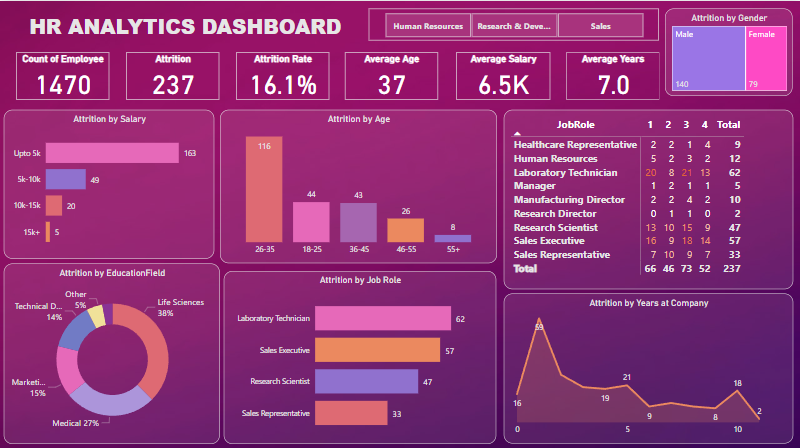

The dashboard page shown, as its layout file describes it:
{"tool":"powerbi","page":{"name":"Page 1","canvas":[1280,720],"ordinal":0},"visuals":[{"type":"card","title":"Count of Employee","fields":{"Values":["CountNonNull(HR_Analytics.EmpID)"]},"box":[25.7,81.4,148.6,75.7],"z":0},{"type":"card","title":"Attrition","fields":{"Values":["Sum(HR_Analytics.AttritionCount)"]},"box":[202.9,81.4,148.6,75.7],"z":1000},{"type":"card","title":"Attrition Rate","fields":{"Values":["HR_Analytics.AttritionRate"]},"box":[377.1,81.4,148.6,75.7],"z":2000},{"type":"card","title":"Average Age","fields":{"Values":["Avg(HR_Analytics.Age)"]},"box":[552.9,81.4,148.6,75.7],"z":3000},{"type":"card","title":"Average Salary","fields":{"Values":["Avg(HR_Analytics.MonthlyIncome)"]},"box":[730,81.4,150,75.7],"z":4000},{"type":"card","title":"Average Years","fields":{"Values":["Avg(HR_Analytics.YearsAtCompany)"]},"box":[905.7,81.4,148.6,75.7],"z":5000},{"type":"donutChart","title":"Attrition by EducationField","fields":{"Category":["HR_Analytics.EducationField"],"Y":["Sum(HR_Analytics.AttritionCount)"]},"box":[5.7,420,345.7,288.6],"z":6000},{"type":"columnChart","title":"Attrition by Age","fields":{"Y":["Sum(HR_Analytics.AttritionCount)"],"Category":["HR_Analytics.AgeGroup"]},"box":[351.4,174.3,442.9,245.7],"z":7000},{"type":"pivotTable","fields":{"Rows":["HR_Analytics.JobRole"],"Columns":["HR_Analytics.JobSatisfaction"],"Values":["Sum(HR_Analytics.AttritionCount)"]},"box":[805.6,174.6,463.4,287.3],"z":8000},{"type":"barChart","title":"Attrition by Salary","fields":{"Category":["HR_Analytics.SalarySlab"],"Y":["Sum(HR_Analytics.AttritionCount)"]},"box":[5.7,174.3,337.1,238.6],"z":9000},{"type":"barChart","title":"Attrition by Job Role","fields":{"Category":["HR_Analytics.JobRole"],"Y":["Sum(HR_Analytics.AttritionCount)"]},"box":[358.6,431.4,435.7,277.1],"z":10000},{"type":"areaChart","title":"Attrition by Years at Company","fields":{"Category":["HR_Analytics.YearsAtCompany"],"Y":["Sum(HR_Analytics.AttritionCount)"]},"box":[805.7,468.6,462.9,240],"z":11000},{"type":"treemap","title":"Attrition by Gender","fields":{"Group":["HR_Analytics.Gender"],"Values":["Sum(HR_Analytics.AttritionCount)"]},"box":[1064.3,11.4,204.3,140],"z":12000},{"type":"slicer","fields":{"Values":["HR_Analytics.Department"]},"box":[590,11.4,464.3,51.4],"z":13000},{"type":"textbox","box":[20,11.4,552.9,64.3],"z":14000}]}

Visuals, with their boxes in screenshot pixels (x1, y1, x2, y2), scaled from the page's 1280x720 canvas onto the 800x448 screenshot:
"Count of Employee" card: <bbox>16, 51, 109, 98</bbox>
"Attrition" card: <bbox>127, 51, 220, 98</bbox>
"Attrition Rate" card: <bbox>236, 51, 329, 98</bbox>
"Average Age" card: <bbox>346, 51, 438, 98</bbox>
"Average Salary" card: <bbox>456, 51, 550, 98</bbox>
"Average Years" card: <bbox>566, 51, 659, 98</bbox>
"Attrition by EducationField" donutChart: <bbox>4, 261, 220, 441</bbox>
"Attrition by Age" columnChart: <bbox>220, 108, 496, 261</bbox>
pivotTable - HR_Analytics.JobRole x HR_Analytics.JobSatisfaction: <bbox>504, 109, 793, 287</bbox>
"Attrition by Salary" barChart: <bbox>4, 108, 214, 257</bbox>
"Attrition by Job Role" barChart: <bbox>224, 268, 496, 441</bbox>
"Attrition by Years at Company" areaChart: <bbox>504, 292, 793, 441</bbox>
"Attrition by Gender" treemap: <bbox>665, 7, 793, 94</bbox>
slicer - HR_Analytics.Department: <bbox>369, 7, 659, 39</bbox>
textbox: <bbox>12, 7, 358, 47</bbox>
